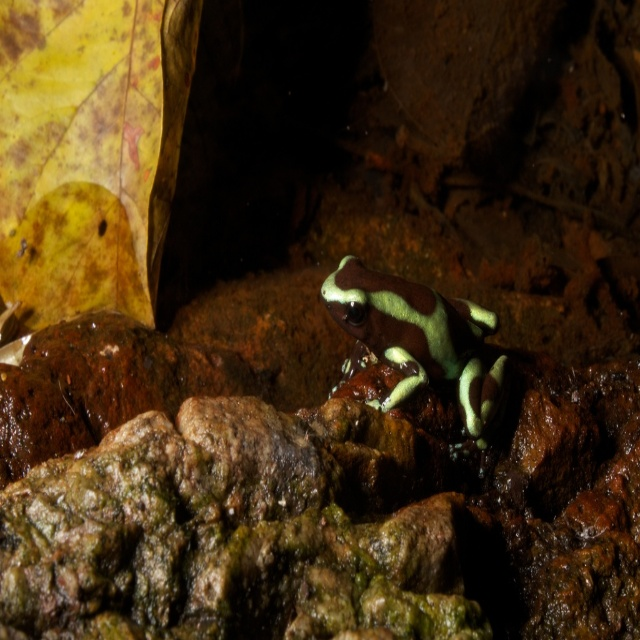Frog: (322, 252, 509, 453)
